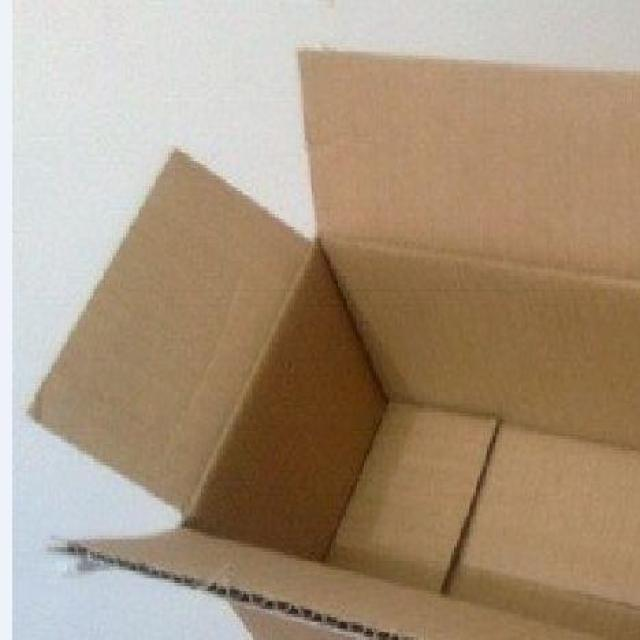cardboard: (37, 45, 640, 640)
